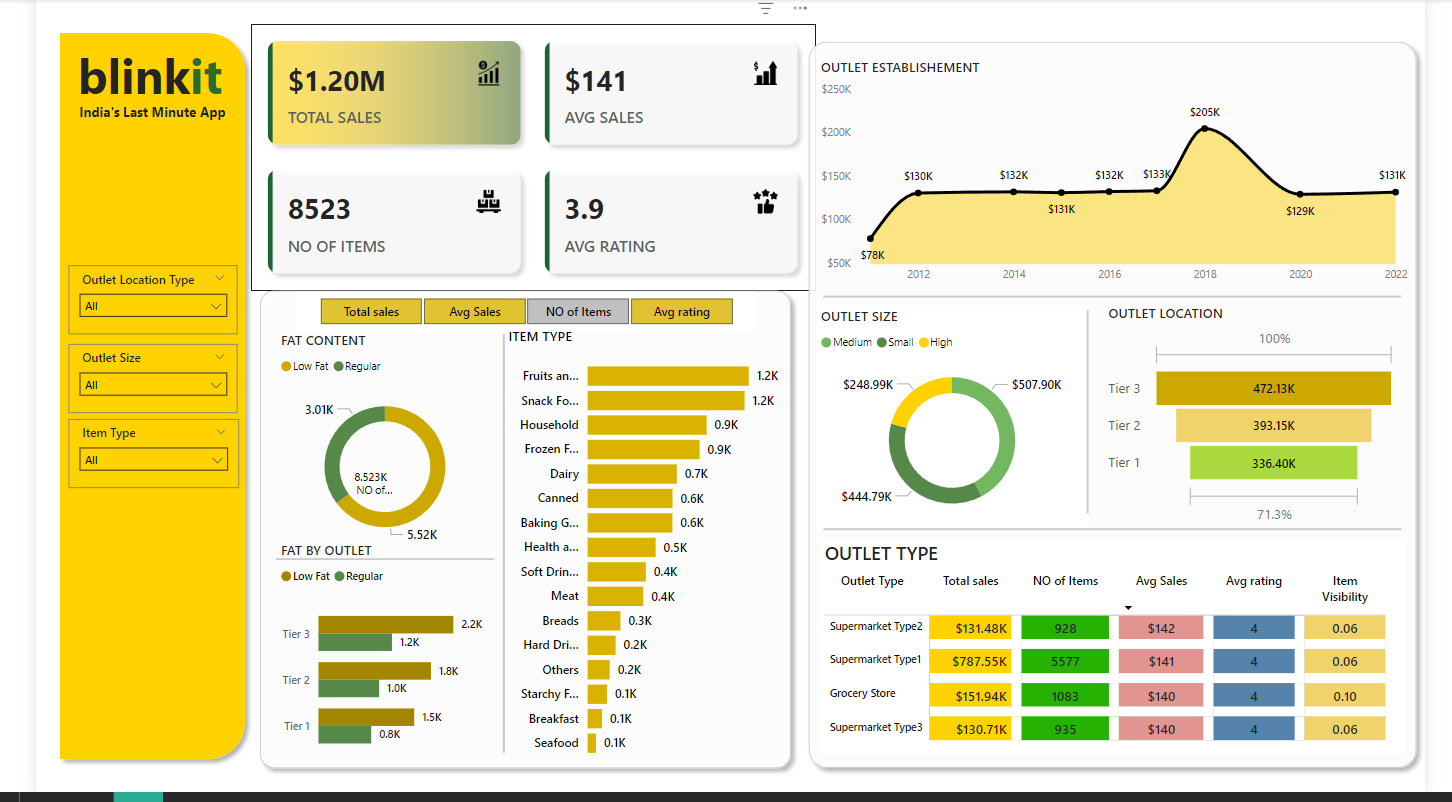

The dashboard page shown, as its layout file describes it:
{"tool":"powerbi","page":{"name":"Page 1","canvas":[1400,800],"ordinal":0},"visuals":[{"type":"shape","box":[15.3,25.4,204.8,750.4],"z":0},{"type":"textbox","box":[30.5,39.4,169.2,76.3],"z":1000},{"type":"textbox","box":[30.5,99.2,174.2,34.3],"z":2000},{"type":"cardVisual","fields":{"Data":["BlinkIT Grocery Data.Total sales","BlinkIT Grocery Data.Avg Sales","BlinkIT Grocery Data.NO of Items","BlinkIT Grocery Data.Avg rating"]},"box":[216.2,25.4,569.8,269.6],"z":3000},{"type":"shape","box":[216.2,284.9,553.2,499.8],"z":4000},{"type":"donutChart","title":"FAT CONTENT","fields":{"Y":["BlinkIT Grocery Data.NO of Items"],"Category":["BlinkIT Grocery Data.Item Fat Content"]},"box":[241.6,334.5,220,230.2],"z":5000},{"type":"slicer","fields":{"Values":["Metrics.Metrics"]},"box":[260.7,295.1,465.5,39.4],"z":6000},{"type":"cardVisual","fields":{"Data":["BlinkIT Grocery Data.NO of Items"]},"box":[293.8,457.9,87.8,57.2],"z":7000},{"type":"clusteredBarChart","title":"FAT BY OUTLET","fields":{"Y":["BlinkIT Grocery Data.NO of Items"],"Category":["BlinkIT Grocery Data.Outlet Location Type"],"Series":["BlinkIT Grocery Data.Item Fat Content"]},"box":[241.6,545.6,220,230.2],"z":8000},{"type":"shape","box":[241.6,549.4,220,30.5],"z":9000},{"type":"shape","box":[361.2,338.3,220,422.2],"z":10000},{"type":"barChart","title":"ITEM TYPE","fields":{"Y":["BlinkIT Grocery Data.NO of Items"],"Category":["BlinkIT Grocery Data.Item Type"]},"box":[471.8,330.7,288.7,445.1],"z":11000},{"type":"shape","box":[769.4,34.3,630.8,750.4],"z":12000},{"type":"lineChart","title":"OUTLET ESTABLISHEMENT","fields":{"Y":["BlinkIT Grocery Data.Total sales"],"Category":["BlinkIT Grocery Data.Outlet Establishment Year"]},"box":[786,59.8,601.6,235.3],"z":13000},{"type":"shape","box":[793.6,284.9,582.5,30.5],"z":14000},{"type":"donutChart","title":"OUTLET SIZE","fields":{"Y":["BlinkIT Grocery Data.Total sales"],"Category":["BlinkIT Grocery Data.Outlet Size"]},"box":[786,310.3,274.7,225.1],"z":15000},{"type":"shape","box":[950,314.1,220,204.8],"z":16000},{"type":"funnel","title":"OUTLET LOCATION","fields":{"Y":["Sum(BlinkIT Grocery Data.Sales)"],"Category":["BlinkIT Grocery Data.Outlet Location Type"]},"box":[1075.9,307.8,300.1,227.7],"z":17000},{"type":"shape","box":[793.6,518.9,582.5,30.5],"z":18000},{"type":"pivotTable","title":"OUTLET TYPE","fields":{"Rows":["BlinkIT Grocery Data.Outlet Type"],"Values":["BlinkIT Grocery Data.Total sales","BlinkIT Grocery Data.NO of Items","BlinkIT Grocery Data.Avg Sales","BlinkIT Grocery Data.Avg rating","Avg(BlinkIT Grocery Data.Item Visibility)"]},"box":[789.8,545.6,591.4,214.9],"z":19000},{"type":"slicer","fields":{"Values":["BlinkIT Grocery Data.Outlet Location Type"]},"box":[33.1,268.4,170.4,69.9],"z":20000},{"type":"slicer","fields":{"Values":["BlinkIT Grocery Data.Outlet Size"]},"box":[33.1,347.2,170.4,69.9],"z":21000},{"type":"slicer","fields":{"Values":["BlinkIT Grocery Data.Item Type"]},"box":[33.1,423.5,171.7,69.9],"z":22000}]}

Visuals, with their boxes on the page's 1400x800 design canvas (x1, y1, x2, y2). These are canvas units, not pixel positions in the 1452x802 screenshot, which may show the page scaled, cropped or inside an application window:
shape: [15, 25, 220, 776]
textbox: [30, 39, 200, 116]
textbox: [30, 99, 205, 134]
cardVisual - BlinkIT Grocery Data.Total sales x BlinkIT Grocery Data.Avg Sales: [216, 25, 786, 295]
shape: [216, 285, 769, 785]
"FAT CONTENT" donutChart: [242, 334, 462, 565]
slicer - Metrics.Metrics: [261, 295, 726, 334]
cardVisual - BlinkIT Grocery Data.NO of Items: [294, 458, 382, 515]
"FAT BY OUTLET" clusteredBarChart: [242, 546, 462, 776]
shape: [242, 549, 462, 580]
shape: [361, 338, 581, 760]
"ITEM TYPE" barChart: [472, 331, 760, 776]
shape: [769, 34, 1400, 785]
"OUTLET ESTABLISHEMENT" lineChart: [786, 60, 1388, 295]
shape: [794, 285, 1376, 315]
"OUTLET SIZE" donutChart: [786, 310, 1061, 535]
shape: [950, 314, 1170, 519]
"OUTLET LOCATION" funnel: [1076, 308, 1376, 536]
shape: [794, 519, 1376, 549]
"OUTLET TYPE" pivotTable: [790, 546, 1381, 760]
slicer - BlinkIT Grocery Data.Outlet Location Type: [33, 268, 204, 338]
slicer - BlinkIT Grocery Data.Outlet Size: [33, 347, 204, 417]
slicer - BlinkIT Grocery Data.Item Type: [33, 424, 205, 493]
